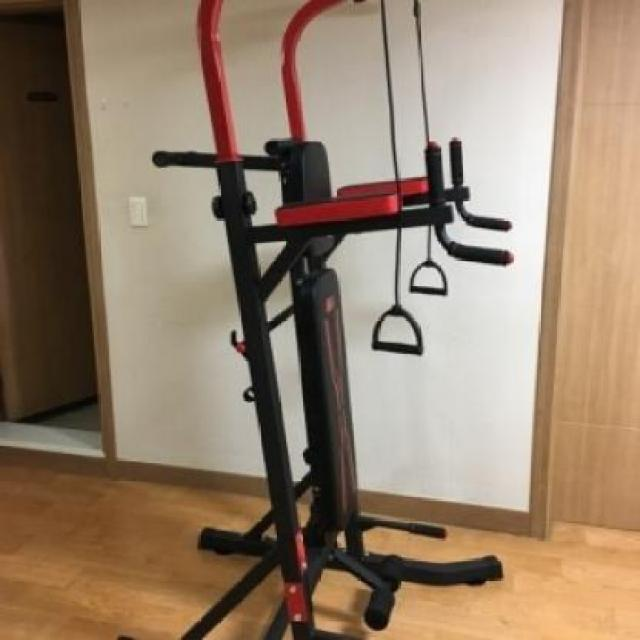chinning dipping: (151, 0, 512, 640)
